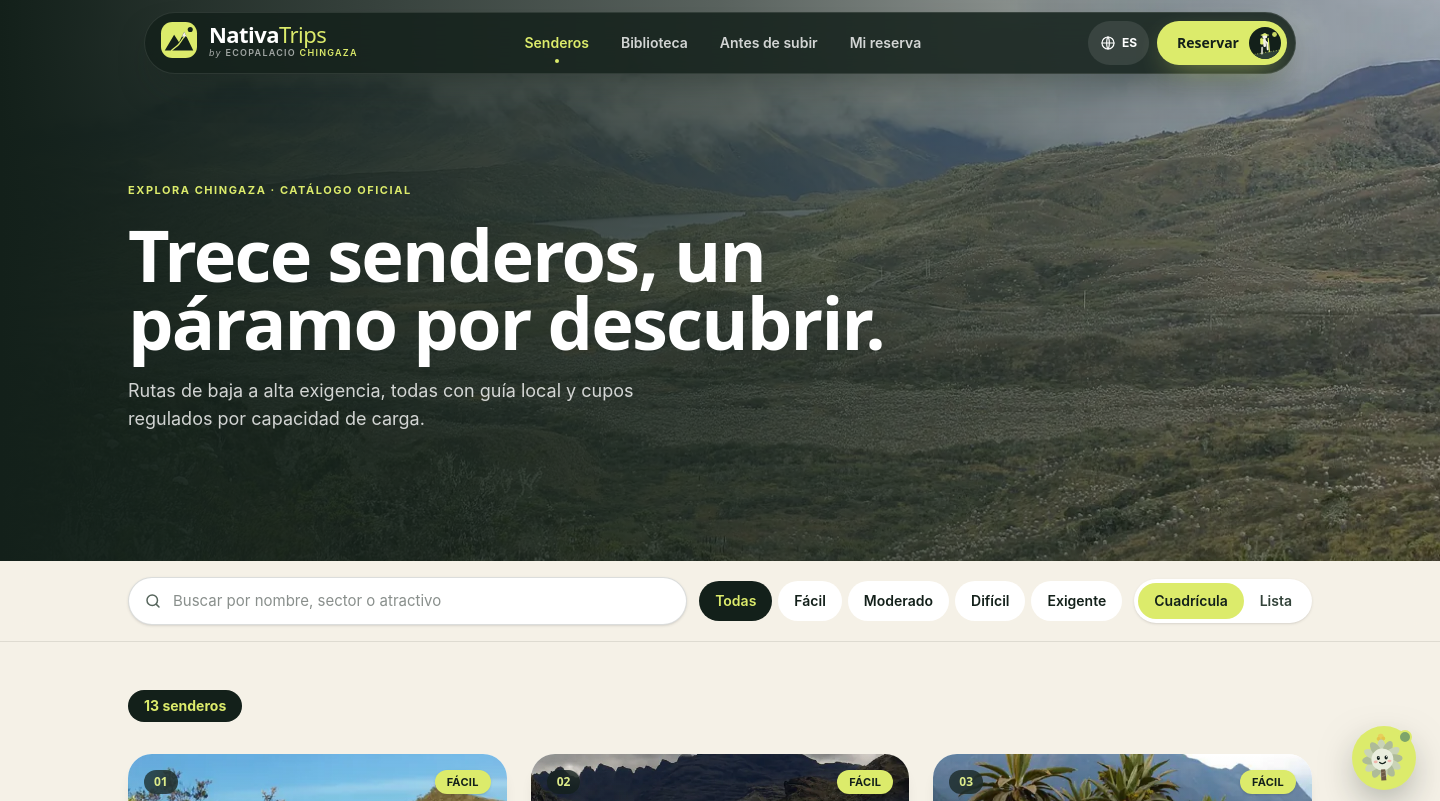
Scenario: catálogo de senderos › busca sin importar tildes y combina con la dificultad
Type "caquezas" into the search field named "Buscar sendero".
click(408, 601); type("caquezas")  # box [128,577,687,625]
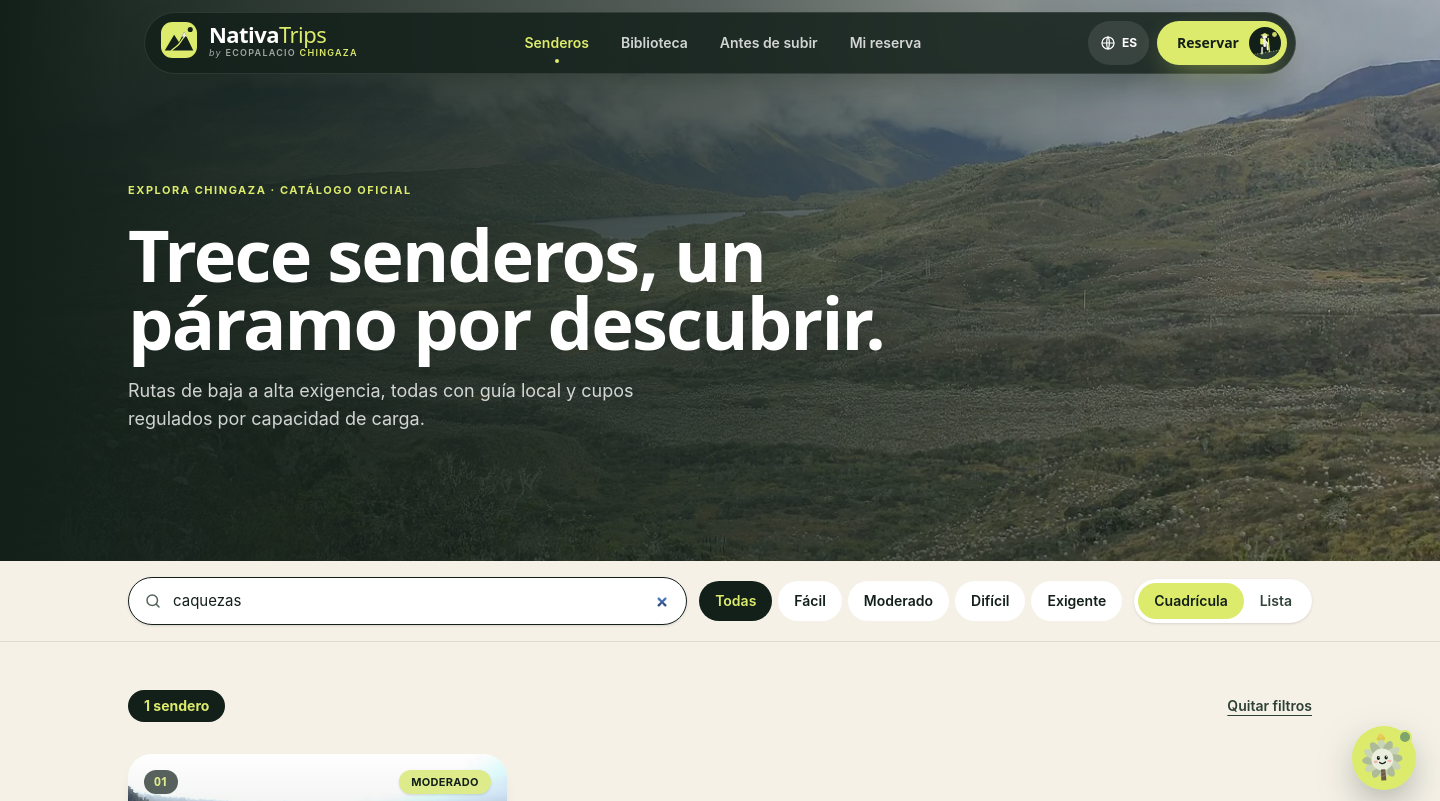
Now the message reads "1 sendero", box [144,697,209,714]
Click the button "Exigente".
click(1077, 601)  # box [1032,581,1122,621]
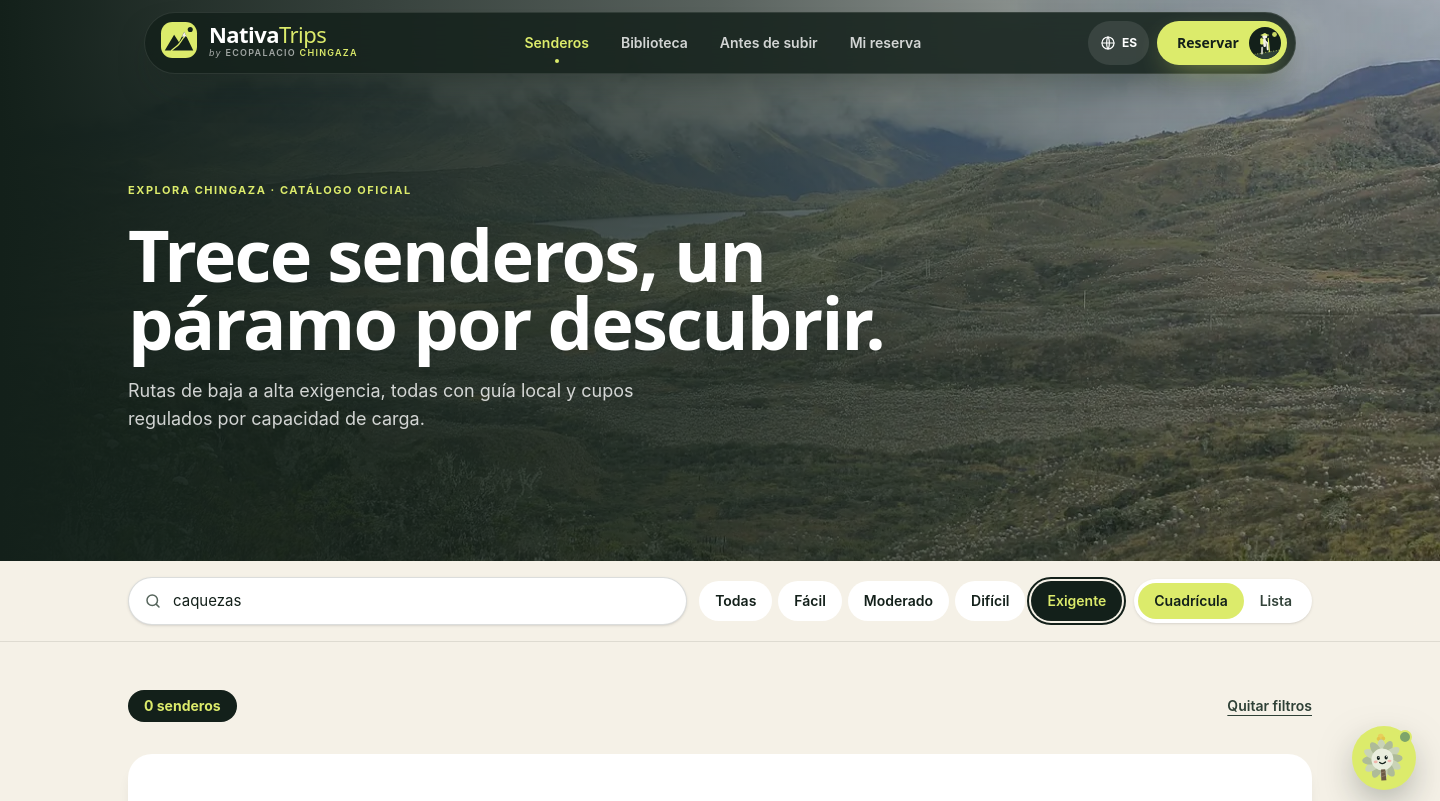
Click the button "Quitar filtros".
click(1270, 706)  # box [1227,696,1312,716]
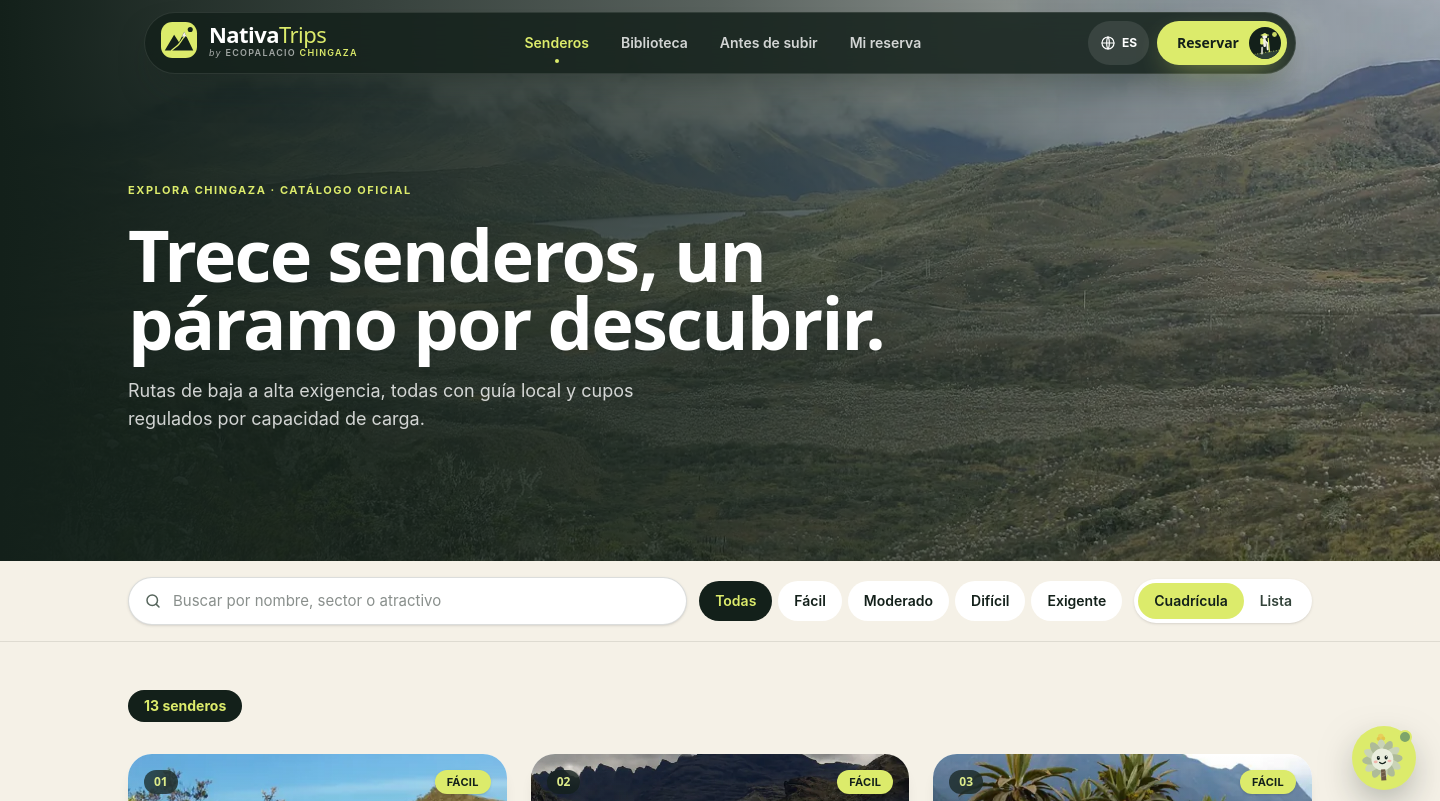
Now the message reads "13 senderos", box [144,697,226,714]
